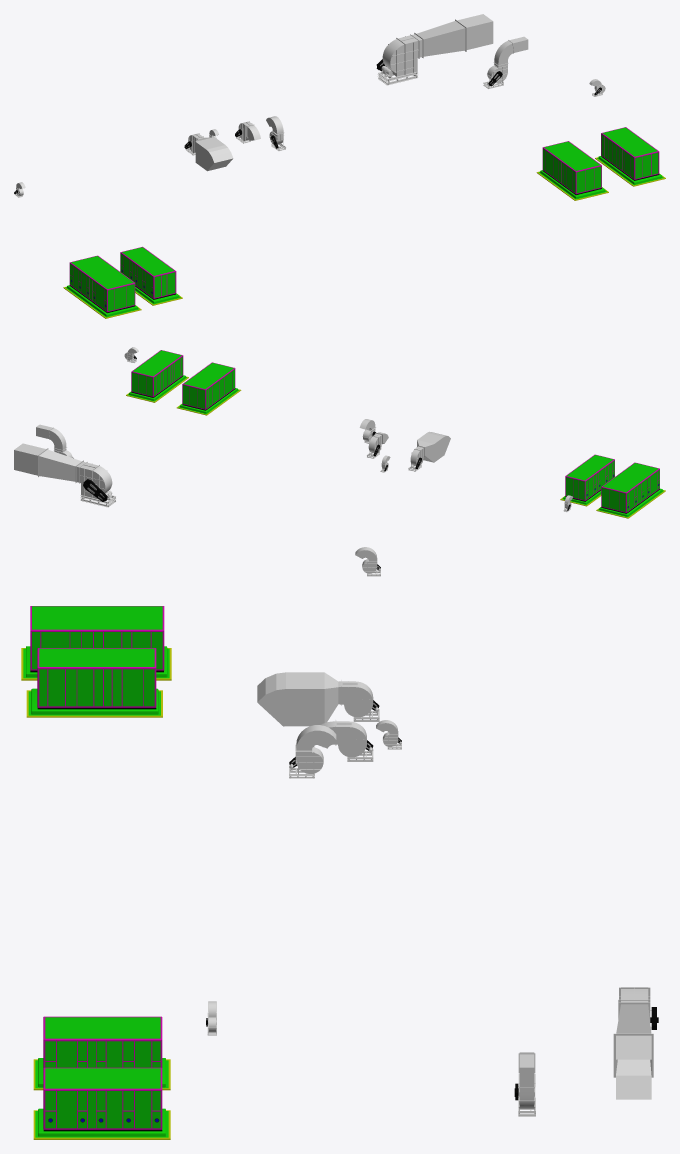
Rendered from 17F_etc.fbx.
3 views of the same model, one above another, from view 1: azimuth 30°, elevation 25°; view 2: azimuth 150°, elevation 25°; view 3: azimuth 270°, elevation 25° (orthographic). The views are drawn at different scales.
Parts seen in each view (by area): view 1: EF-26, AHU-13, AHU-15, AHU-16, AHU-14, EF-26-006, EF-26-1, greenbox17F01, greenbox17F03, greenbox17F04, EF-26-003; view 2: EF-26, AHU-13, AHU-15, AHU-16, AHU-14, EF-26-006, EF-26-1, greenbox17F01, greenbox17F03, greenbox17F04, EF-26-004, EF-26-003; view 3: AHU-16, AHU-14, AHU-15, AHU-13, EF-26-006, EF-26, greenbox17F04, EF-26-003, greenbox17F02, EF-26-004, EF-26-1.
Part boxes in pixels (box(x1,y1,x2,y2)): EF-26: box(376, 14, 493, 85); AHU-13: box(69, 255, 135, 312); AHU-15: box(542, 141, 601, 194); AHU-16: box(601, 127, 659, 180); AHU-14: box(120, 246, 176, 299); EF-26-006: box(184, 133, 233, 171); EF-26-1: box(483, 36, 528, 88); greenbox17F01: box(63, 285, 141, 318); greenbox17F03: box(536, 170, 608, 200); greenbox17F04: box(595, 156, 665, 186); EF-26-003: box(266, 116, 286, 151); EF-26: box(14, 443, 115, 507); AHU-13: box(601, 462, 659, 513); AHU-15: box(182, 362, 235, 410); AHU-16: box(131, 350, 183, 397); AHU-14: box(565, 454, 614, 501); EF-26-006: box(408, 431, 450, 471); EF-26-1: box(36, 424, 73, 458); greenbox17F01: box(596, 488, 665, 518); greenbox17F03: box(176, 388, 241, 415); greenbox17F04: box(126, 375, 188, 402); EF-26-004: box(366, 432, 388, 458); EF-26-003: box(359, 419, 375, 443); AHU-16: box(43, 1067, 162, 1131); AHU-14: box(37, 648, 156, 709); AHU-15: box(43, 1016, 162, 1067); AHU-13: box(30, 606, 164, 672); EF-26-006: box(257, 672, 379, 726); EF-26: box(613, 987, 658, 1099); greenbox17F04: box(33, 1108, 170, 1139); EF-26-003: box(289, 725, 336, 778); greenbox17F02: box(26, 688, 162, 717); EF-26-004: box(317, 720, 373, 761); EF-26-1: box(514, 1052, 535, 1116).
Bounding box in the file's own units: 63907 × 8538 × 35086.
